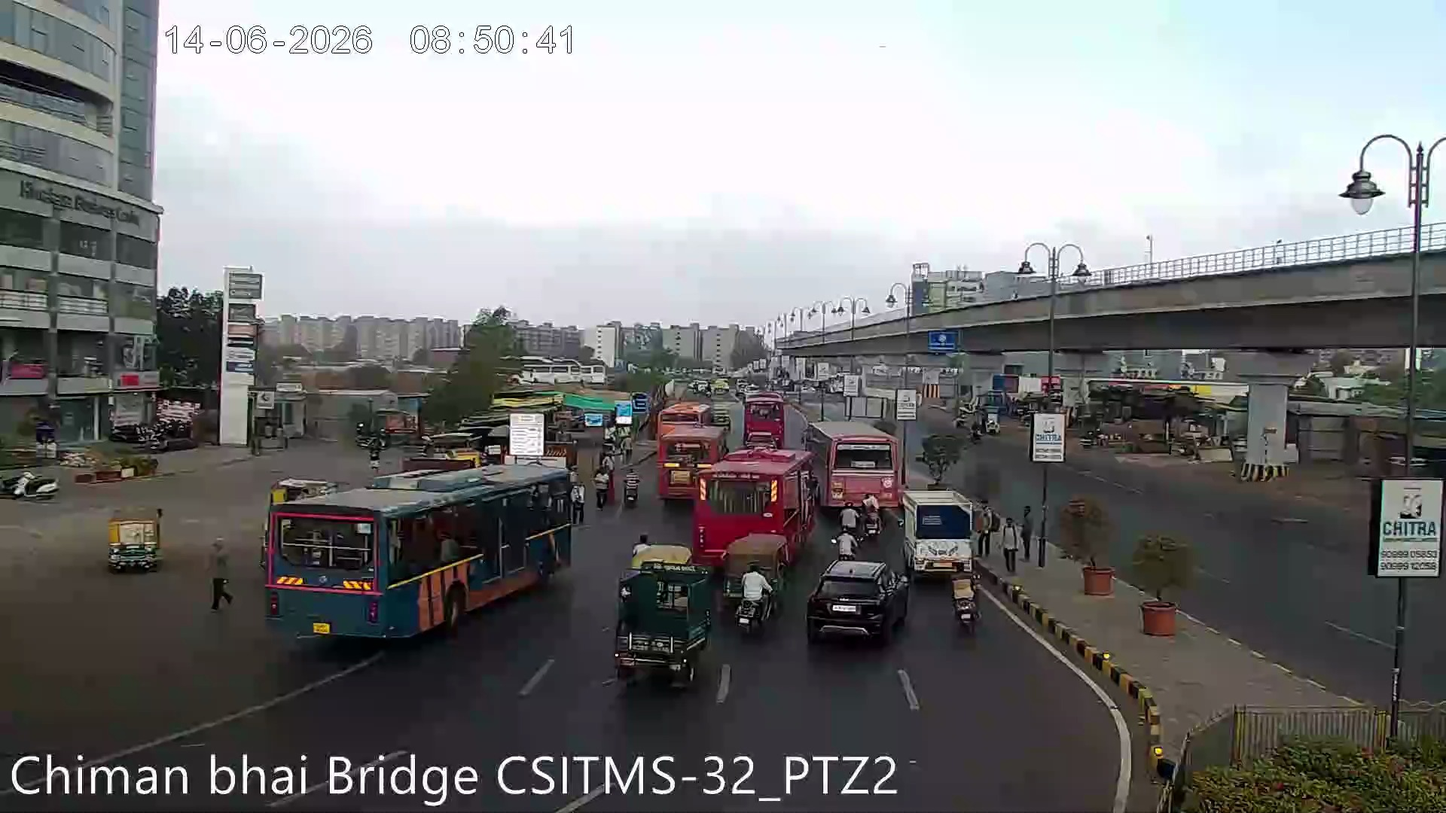auto_rickshaw: (103, 498, 165, 574)
bus: (252, 478, 576, 636), (611, 545, 716, 697), (691, 447, 803, 526), (801, 418, 898, 494), (741, 387, 788, 445)
car: (808, 554, 904, 642)
pedestrian: (201, 528, 237, 622), (1015, 500, 1035, 564), (978, 496, 996, 565), (588, 466, 613, 512), (1001, 517, 1019, 572)
truck: (901, 488, 976, 569)
two_wheeler: (948, 571, 983, 639), (621, 467, 642, 510), (621, 468, 641, 510)
